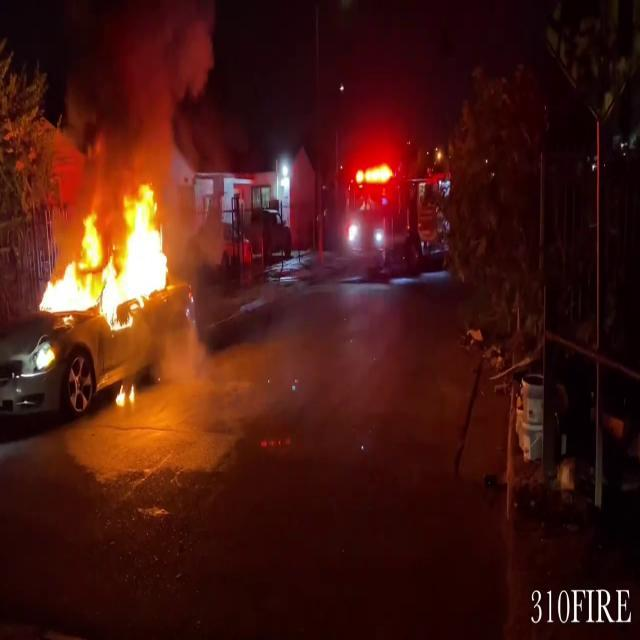Fire: (34, 178, 179, 330), (112, 374, 136, 412)
Smoke: (70, 1, 222, 195)
